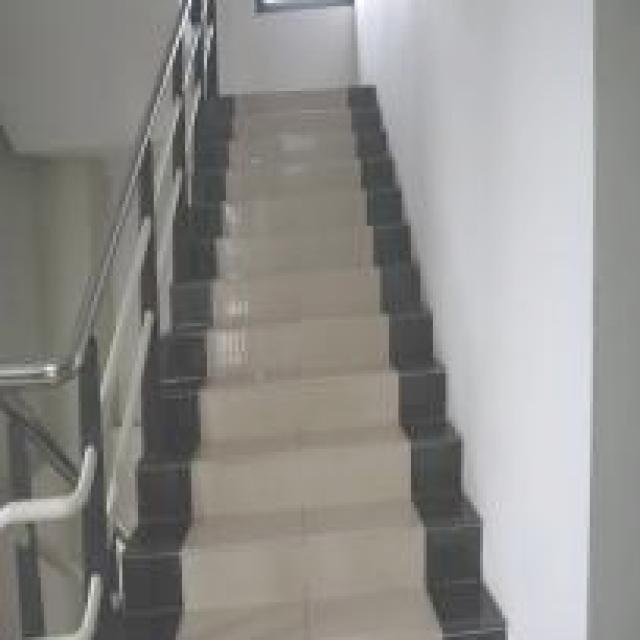upstair: (208, 73, 428, 640)
